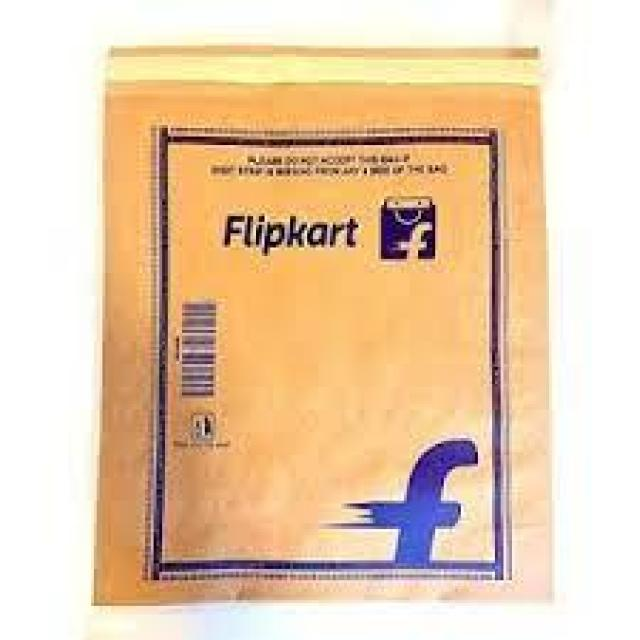box: (94, 46, 549, 602)
